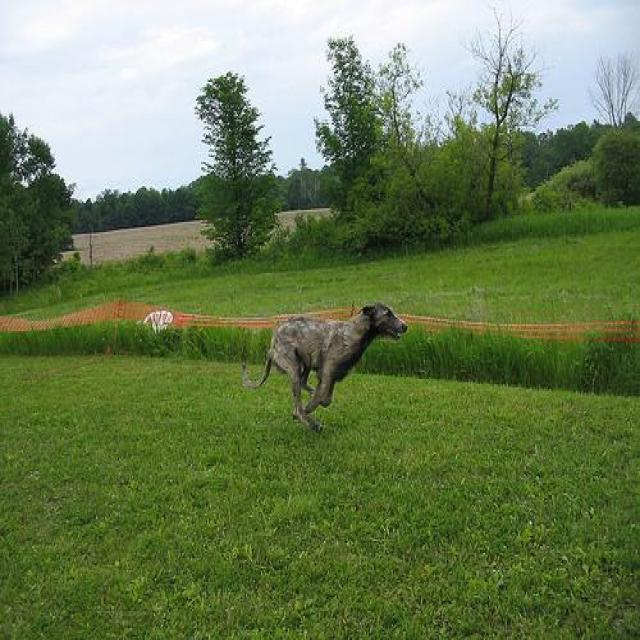irish_wolfhound: (256, 300, 408, 430)
